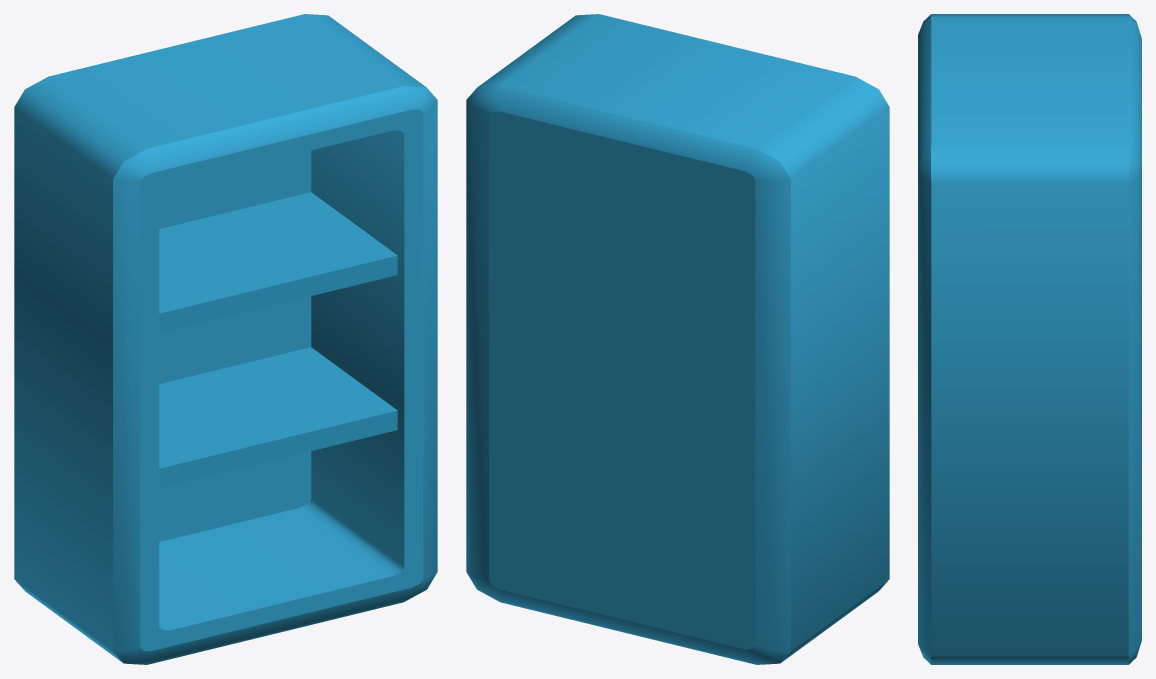
File: Furnit_H_13.glb
The picture shows the model from 3 angles, left to right: view 1: azimuth 30°, elevation 25°; view 2: azimuth 150°, elevation 25°; view 3: azimuth 270°, elevation 25°; orthographic projection.
Parts seen in each view (by area): view 1: Furnit_H_13; view 2: Furnit_H_13; view 3: Furnit_H_13.
Boxes of the visible parts, x1=… form: Furnit_H_13: x1=14, y1=14, x2=437, y2=664; Furnit_H_13: x1=466, y1=14, x2=889, y2=664; Furnit_H_13: x1=918, y1=14, x2=1141, y2=664.
Size of the model in its own units: 0.6 by 0.9107 by 0.3574.
Materials: 1 (1 with a texture image).
